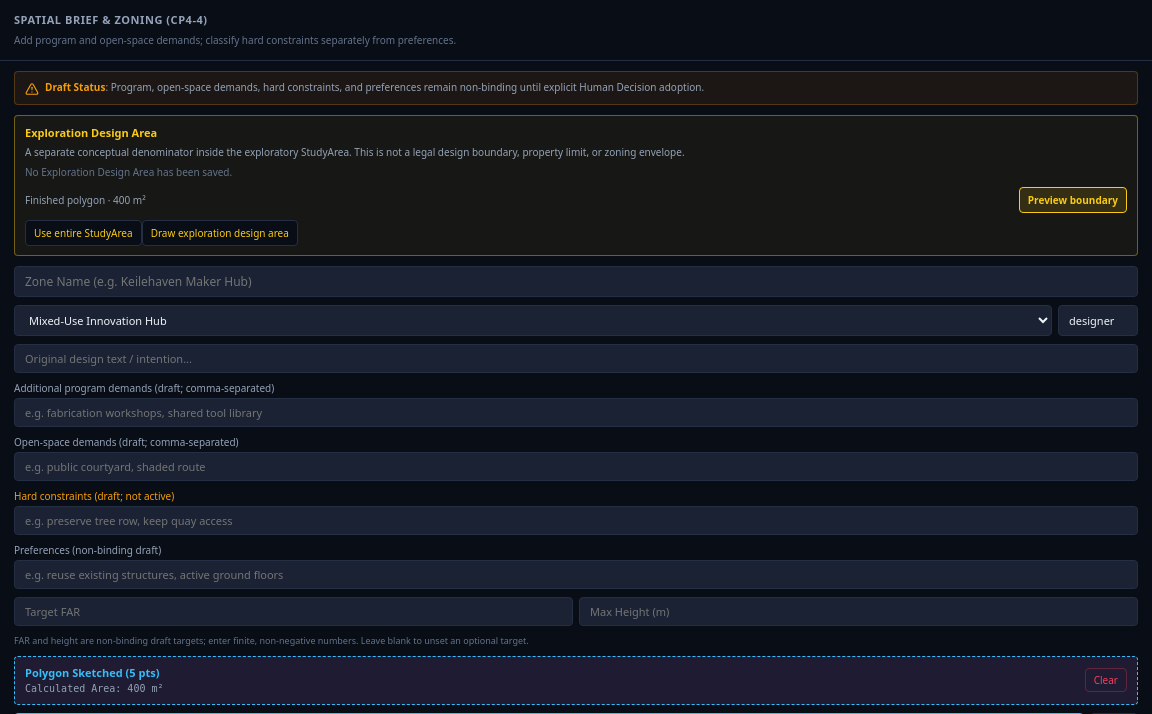
SidebarBrief StudyArea scope › blocks a clipped design area made of multiple pieces
The width and height of the screenshot is (1152, 714).
Click the button with aria-label "Preview clipped design area": point(1073, 200) [1019,187,1127,213]
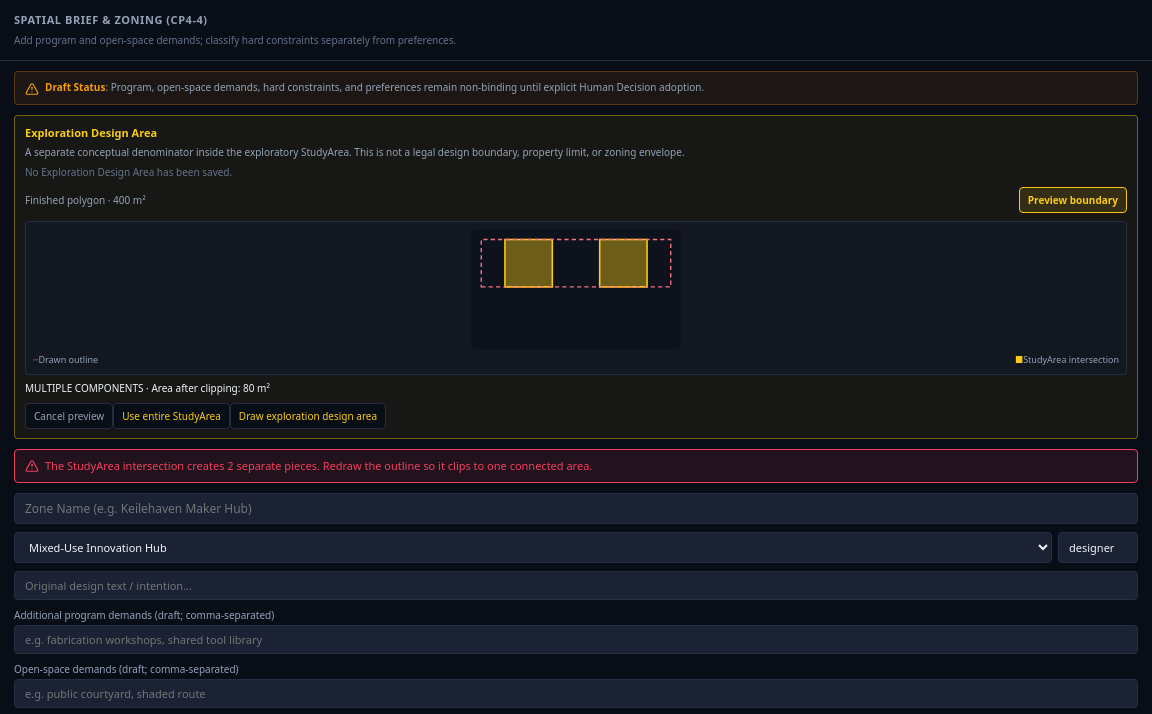
Expected: the 2nd message shows "2 separate pieces", [45,458,592,472]
